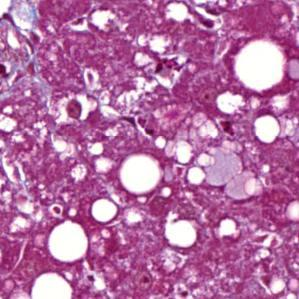steatosis: (118, 156, 162, 195), (50, 221, 90, 262)
